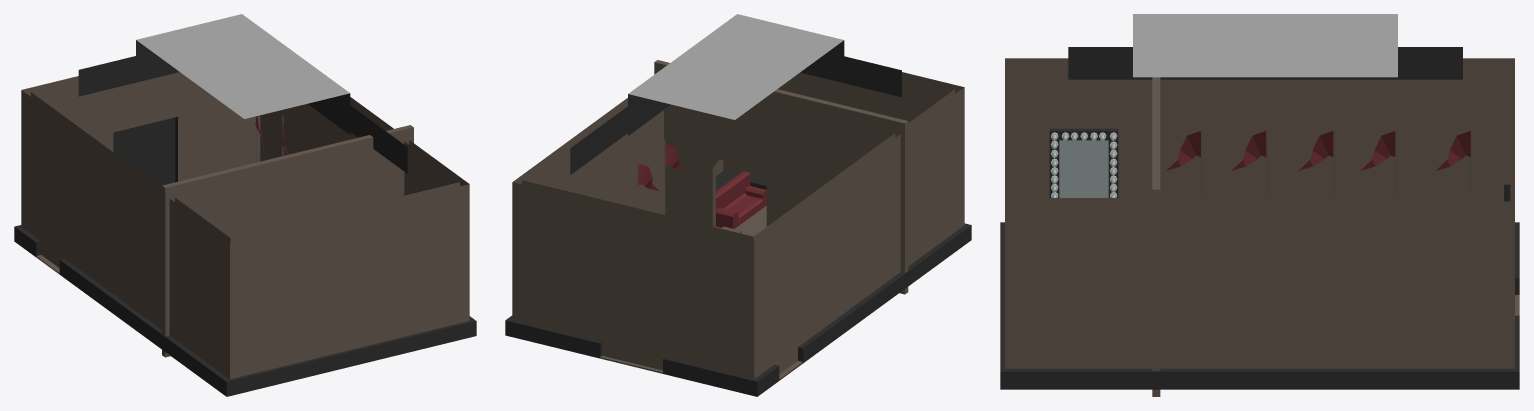
Rendered from Mavsolei inside.fbx.
The picture shows the model from 3 angles, left to right: view 1: azimuth 30°, elevation 25°; view 2: azimuth 150°, elevation 25°; view 3: azimuth 270°, elevation 25°; orthographic projection. The views are drawn at different scales.
Parts seen in each view (by area): view 1: pPlane1, pCube4, pCube3; view 2: pPlane1, pCube4, pCube3, pCube14, gtmfc_flag1, gtmfc_flag; view 3: pPlane1, pCube3, pCube7, pCube4, gtmfc_flag8, gtmfc_flag6, gtmfc_flag7, gtmfc_flag5, gtmfc_flag9.
Part boxes in pixels (x1,y1,x2,y2): pPlane1: (21, 14, 469, 379); pCube4: (162, 125, 413, 357); pCube3: (14, 225, 476, 396); pPlane1: (512, 14, 964, 378); pCube4: (654, 60, 908, 294); pCube3: (505, 171, 971, 396); pCube14: (716, 171, 766, 228); gtmfc_flag1: (663, 138, 686, 214); gtmfc_flag: (636, 158, 659, 208); pPlane1: (1005, 14, 1514, 368); pCube3: (1000, 222, 1519, 389); pCube7: (1049, 128, 1118, 197); pCube4: (1152, 77, 1160, 396); gtmfc_flag8: (1231, 124, 1268, 197); gtmfc_flag6: (1360, 124, 1397, 197); gtmfc_flag7: (1298, 124, 1335, 197); gtmfc_flag5: (1436, 124, 1472, 197); gtmfc_flag9: (1166, 124, 1203, 197).
Bounding box in the file's own units: 82.35 × 71.41 × 121.
